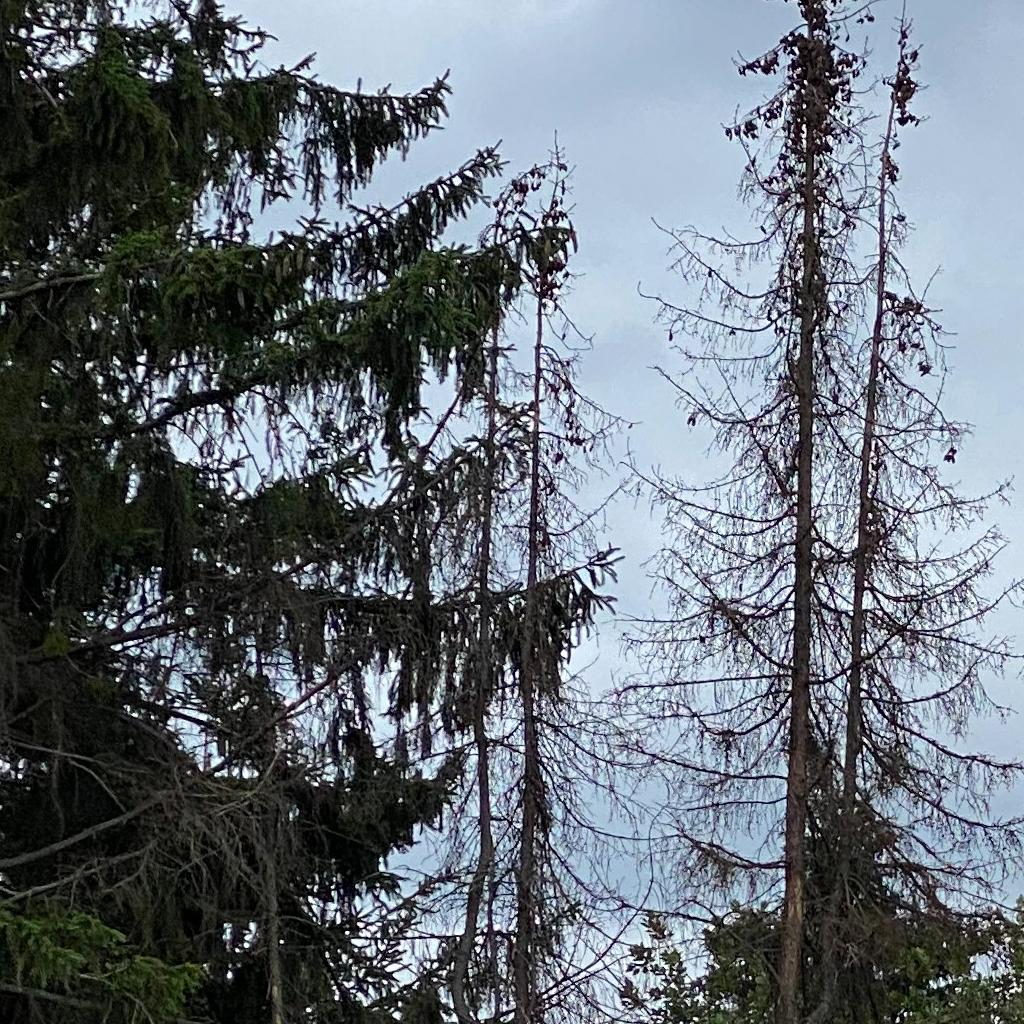tree: (1, 1, 625, 1023), (612, 1, 1023, 1023), (1, 195, 338, 1024), (809, 1, 932, 1024), (506, 128, 626, 1024), (435, 223, 516, 1024)
